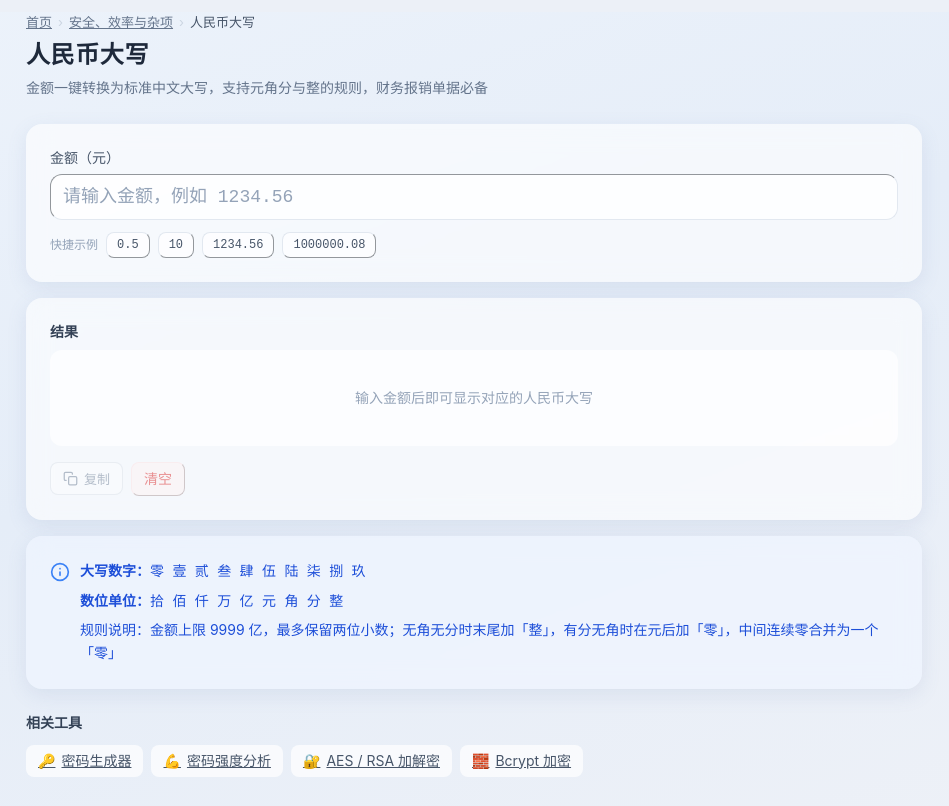
Test: RmbUppercase 组件测试 › 快捷示例按钮填充金额
Click the button "1234.56" at (238, 245), box [202,232,274,258]
Wait 300 ms
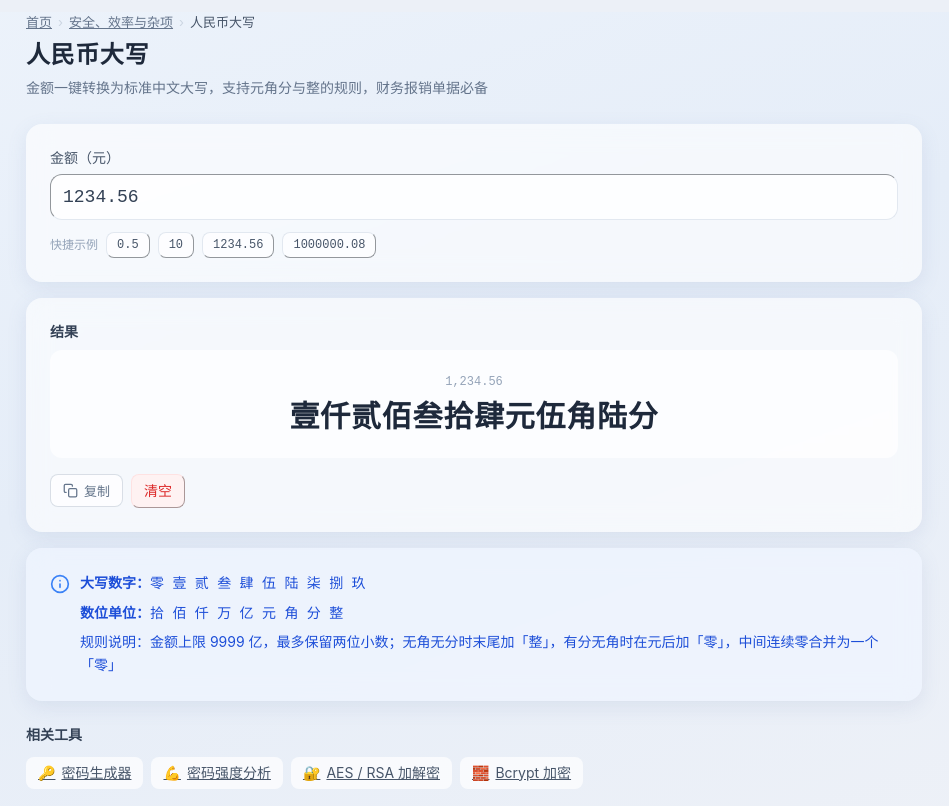
Check: the text "壹仟贰佰叁拾肆元伍角陆分" is shown, box [290,398,658,434]
